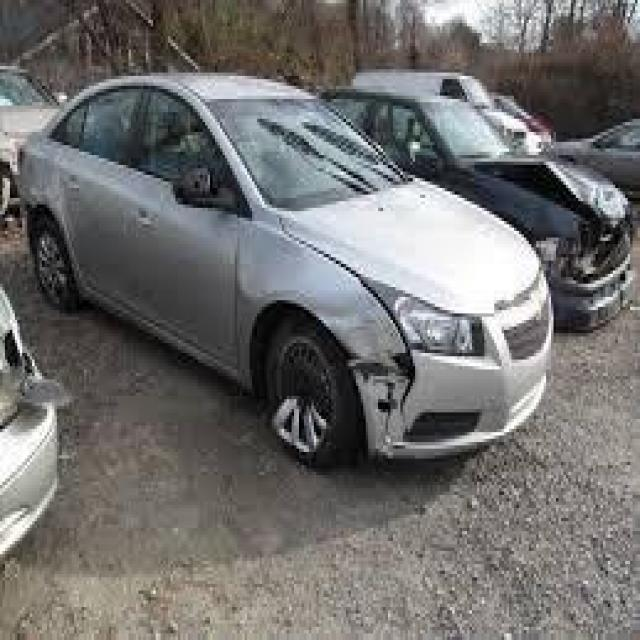damaged: (228, 208, 366, 324), (338, 326, 416, 462)
